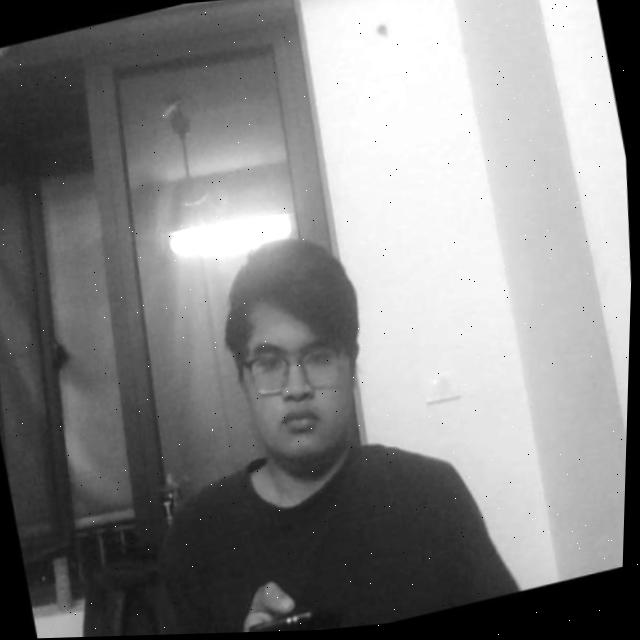phone: (228, 570, 339, 634)
